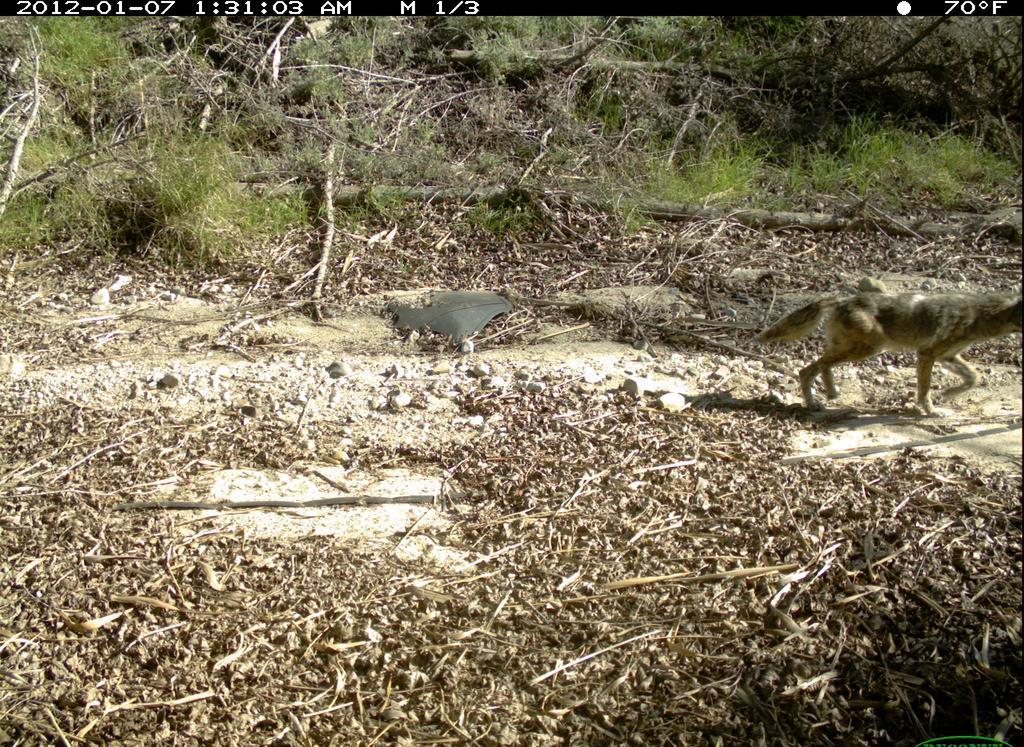coyote: (754, 265, 1023, 428)
